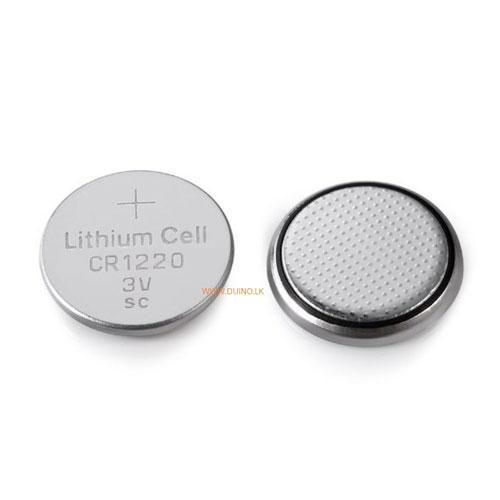COIN: (264, 177, 468, 354), (37, 168, 238, 342)
